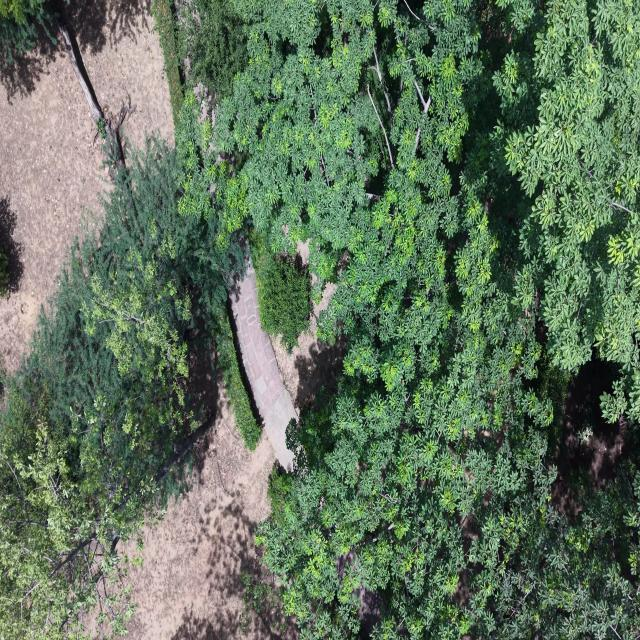DRY_AREA: (128, 266, 343, 639), (128, 263, 298, 639), (119, 367, 299, 639), (123, 387, 298, 639), (128, 396, 298, 639), (127, 398, 297, 639), (127, 398, 296, 639), (128, 403, 295, 639), (130, 406, 296, 639), (0, 46, 109, 372), (230, 261, 346, 470), (230, 258, 343, 471), (230, 259, 343, 471), (230, 263, 345, 469), (231, 264, 346, 468), (229, 257, 298, 471), (551, 360, 630, 518), (57, 18, 135, 176), (551, 362, 627, 517), (271, 283, 347, 415), (271, 283, 345, 414), (271, 284, 345, 414), (231, 262, 284, 415), (55, 0, 152, 56)
PATHWAYS: (231, 262, 297, 471)
VEGETATION_TREE: (0, 0, 639, 639), (215, 0, 639, 638), (0, 10, 261, 638), (0, 142, 243, 637), (0, 147, 202, 637), (495, 2, 639, 422), (0, 0, 135, 167), (176, 92, 246, 285), (55, 14, 135, 179), (250, 234, 312, 352), (178, 0, 248, 100), (218, 317, 262, 450), (151, 0, 183, 127), (0, 0, 55, 63), (239, 572, 283, 633), (0, 198, 22, 297), (0, 0, 42, 21), (0, 246, 10, 296)
